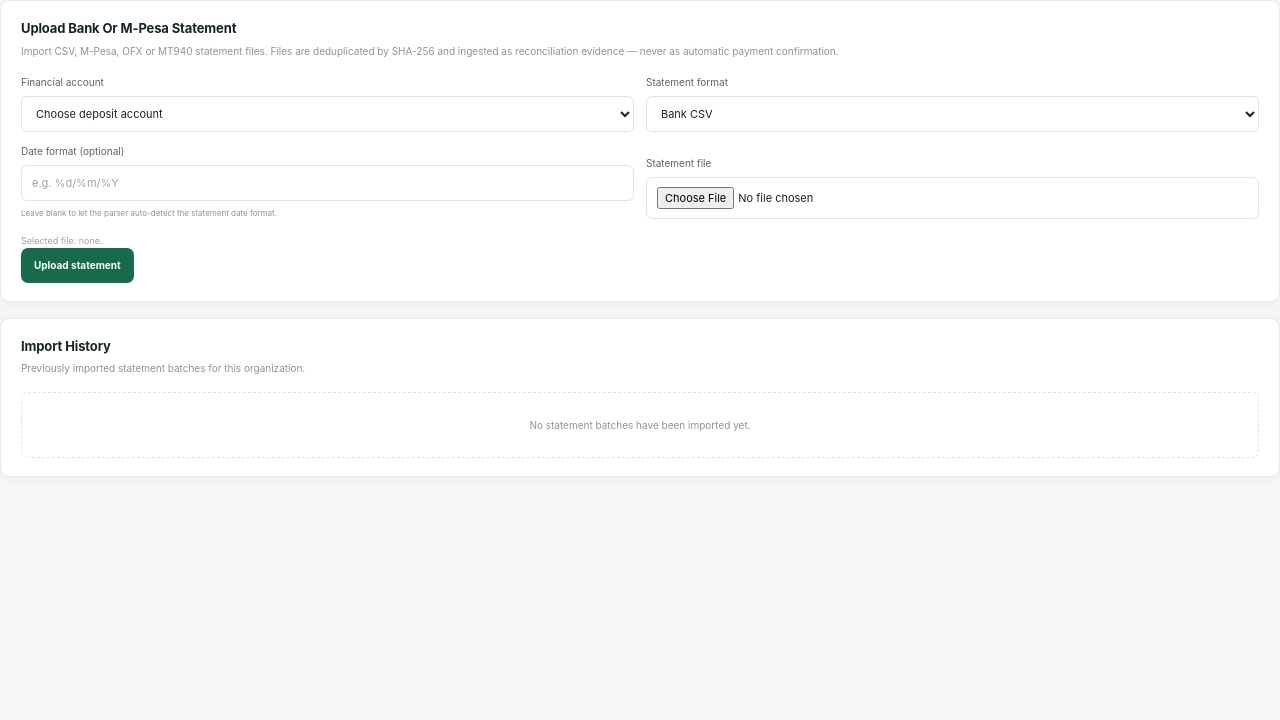
Test: statement import workflow › blocks upload without a file and never posts to the API
Select "1100 · Bank" in the dropdown labelled "Financial account" at {"x": 328, "y": 114}, box x1=21 y1=96 x2=634 y2=132
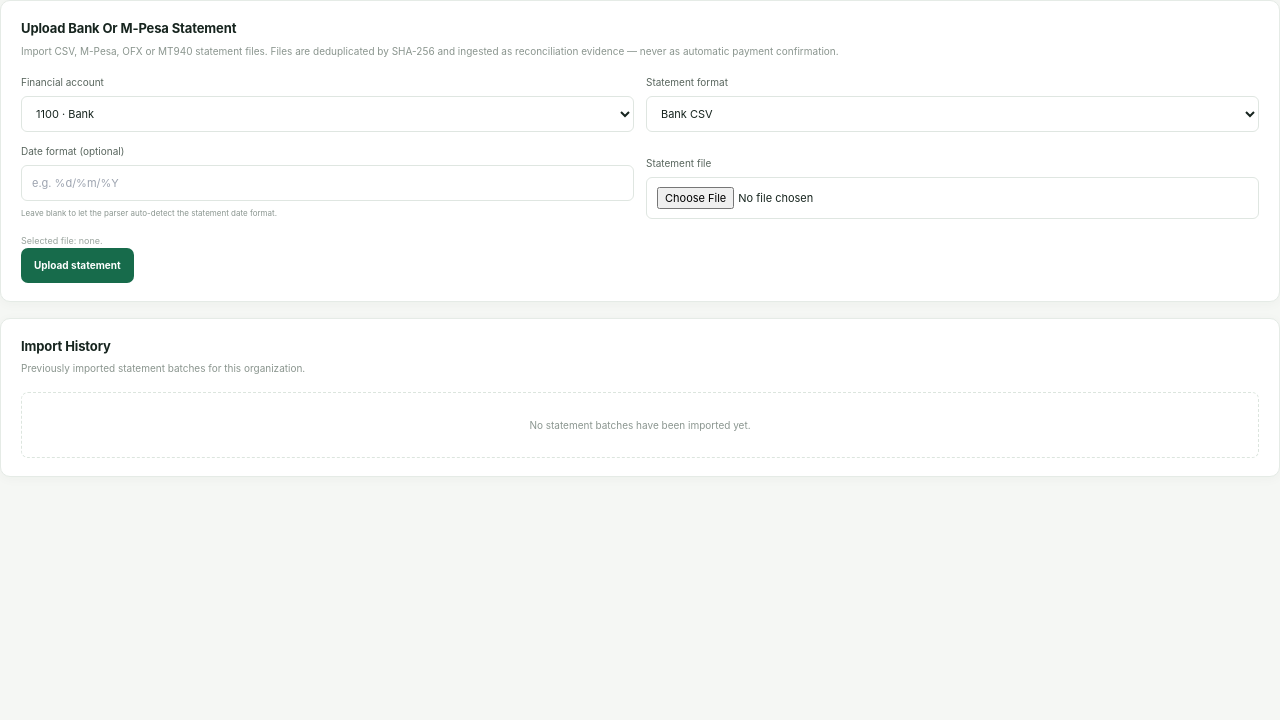
Click the button "Upload statement".
click(77, 265)  # box x1=21 y1=248 x2=134 y2=282
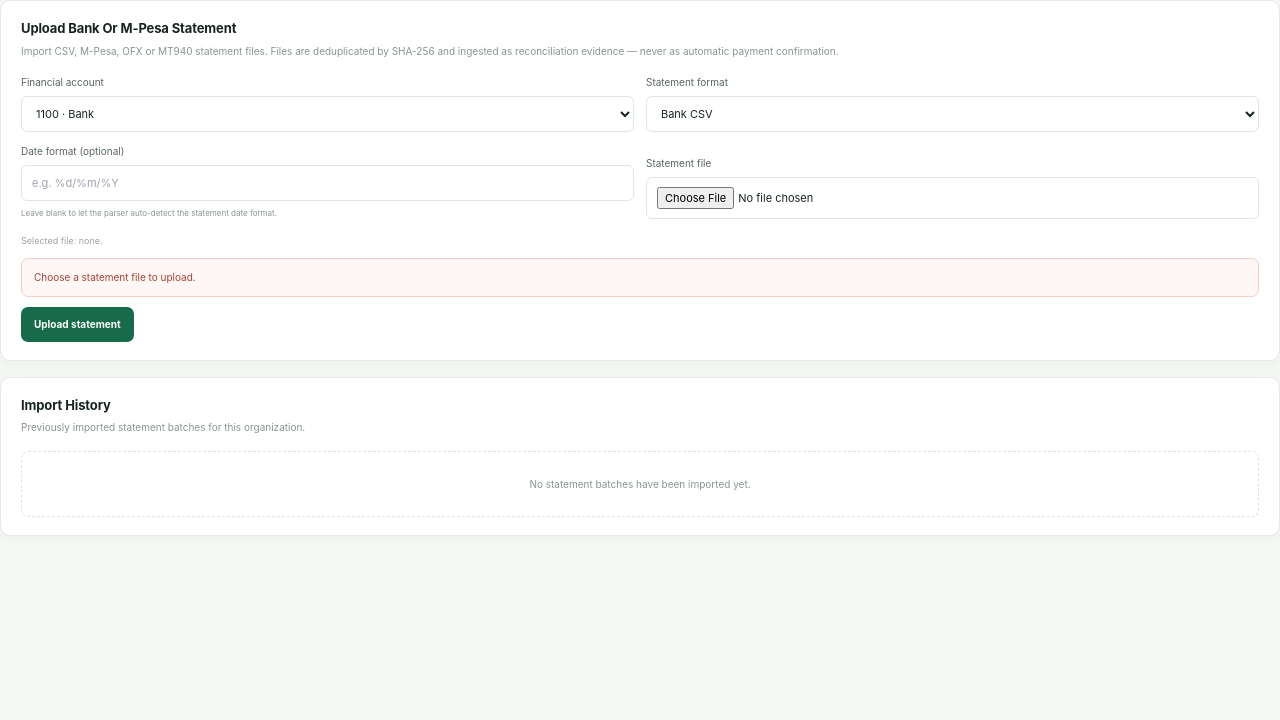
Result: the text "Choose a statement file to upload." is shown at x1=34 y1=270 x2=196 y2=284
